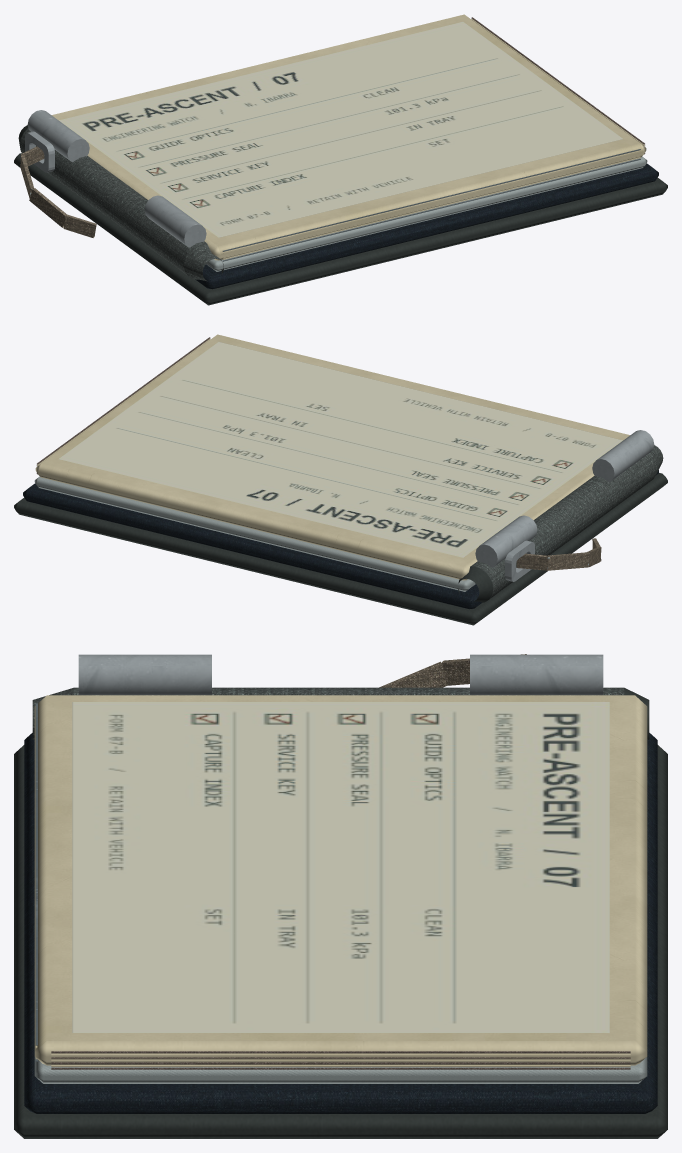
The model's file is prop_logbook.fbx.
3 views of the same model, one above another, from view 1: azimuth 30°, elevation 25°; view 2: azimuth 150°, elevation 25°; view 3: azimuth 270°, elevation 25° (orthographic). The views are drawn at different scales.
Parts seen in each view (by area): view 1: SM_prop_logbook; view 2: SM_prop_logbook; view 3: SM_prop_logbook.
Part boxes in pixels (x1,y1,x2,y2): SM_prop_logbook: (14,14,667,305); SM_prop_logbook: (14,334,667,625); SM_prop_logbook: (14,654,667,1138).
Size of the model in its own units: 0.238 by 0.0329 by 0.157.
Materials: 12 (12 with a texture image).
